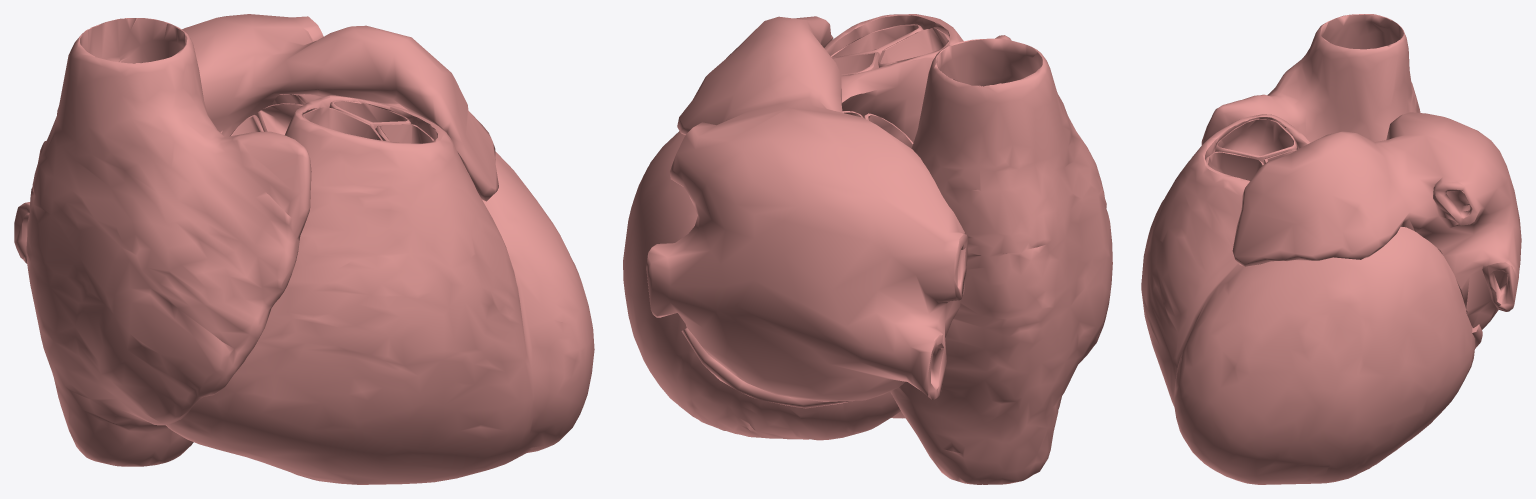
Rendered from coeur-thorax.lo.glb.
The picture shows the model from 3 angles, left to right: view 1: azimuth 30°, elevation 25°; view 2: azimuth 150°, elevation 25°; view 3: azimuth 270°, elevation 25°; orthographic projection. The views are drawn at different scales.
Parts seen in each view (by area): view 1: FJ2428, FJ2439, FJ2438, FJ2434, FJ2427, FJ2426, FJ2417; view 2: FJ2438, FJ2439, FJ2428, FJ2655, FJ2434, FJ2417, FJ2427; view 3: FJ2428, FJ2438, FJ2439, FJ2434, FJ2417.
Part boxes in pixels (x1=…): FJ2428: x1=166, y1=94, x2=594, y2=484; FJ2439: x1=26, y1=18, x2=311, y2=466; FJ2438: x1=14, y1=14, x2=498, y2=263; FJ2434: x1=302, y1=107, x2=382, y2=140; FJ2427: x1=329, y1=100, x2=411, y2=128; FJ2426: x1=257, y1=103, x2=303, y2=134; FJ2417: x1=375, y1=124, x2=434, y2=143; FJ2438: x1=646, y1=16, x2=967, y2=401; FJ2439: x1=890, y1=35, x2=1112, y2=484; FJ2428: x1=623, y1=14, x2=963, y2=440; FJ2655: x1=681, y1=328, x2=852, y2=408; FJ2434: x1=878, y1=28, x2=949, y2=67; FJ2417: x1=831, y1=24, x2=923, y2=58; FJ2427: x1=833, y1=52, x2=879, y2=75; FJ2428: x1=1141, y1=114, x2=1475, y2=484; FJ2438: x1=1232, y1=112, x2=1521, y2=329; FJ2439: x1=1201, y1=14, x2=1420, y2=145; FJ2434: x1=1215, y1=119, x2=1296, y2=164; FJ2417: x1=1205, y1=151, x2=1263, y2=180.
Bounding box in the file's own units: 0.1153 × 0.1053 × 0.1063.
